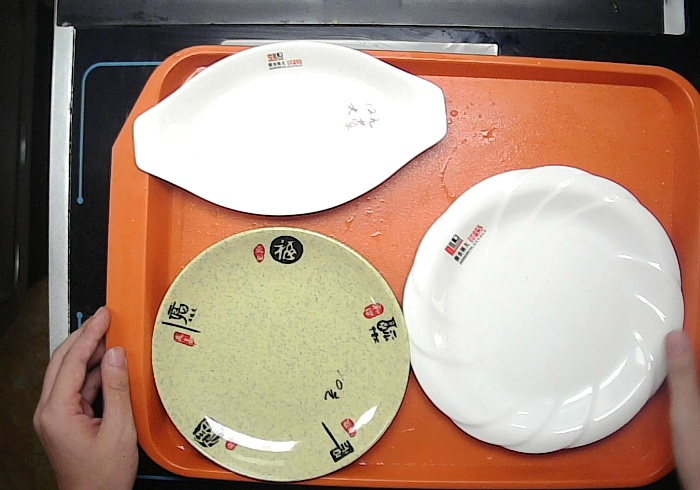NLDX-Bai_Zhe_Yuan_Pan: (389, 158, 690, 461)
NLDX-Fu_Zi_Yuan_Pan: (148, 215, 414, 489)
NLDX-Yu_Pan: (127, 38, 453, 221)
